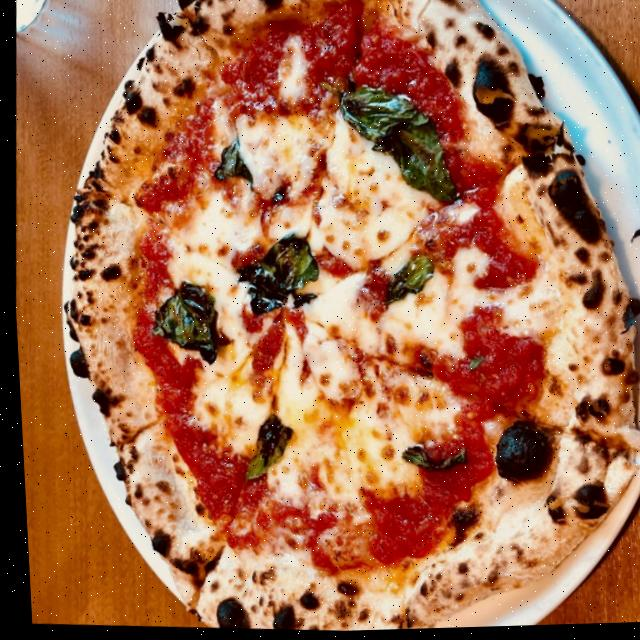basil: (310, 76, 463, 208), (224, 223, 324, 332), (138, 275, 221, 369), (234, 412, 293, 484), (375, 251, 435, 320), (394, 440, 467, 477), (206, 138, 255, 189), (459, 355, 485, 377)
pizza: (33, 0, 640, 639)
